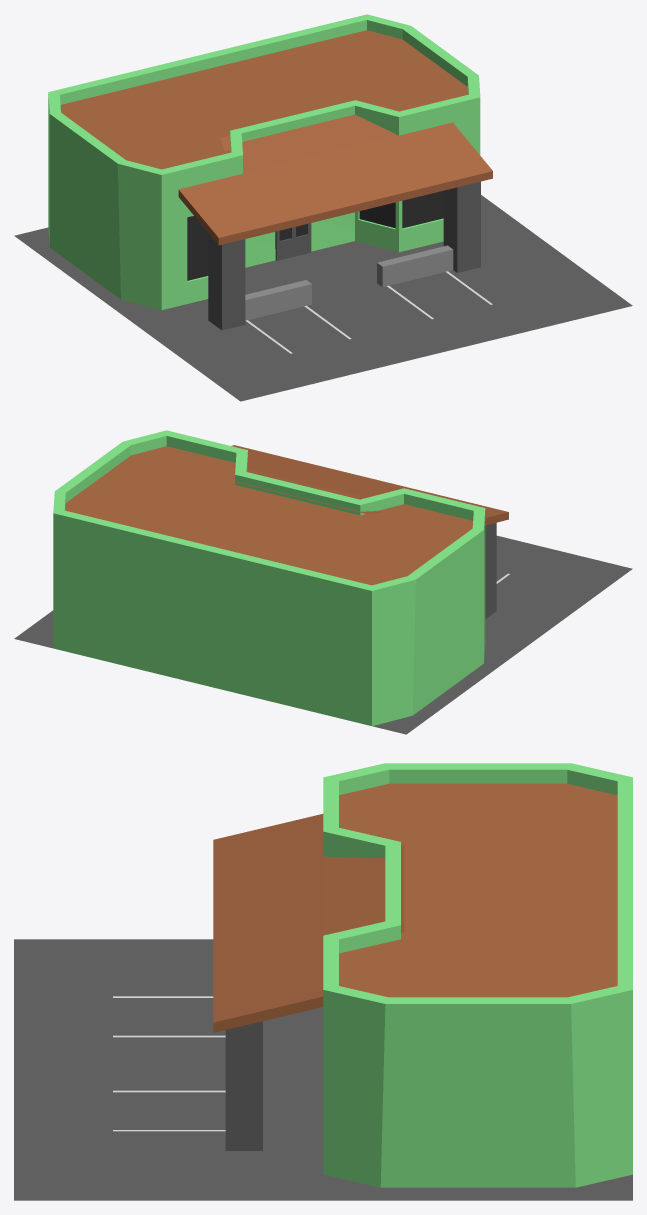
File: shop_02.fbx
3 views of the same model, one above another, from view 1: azimuth 30°, elevation 25°; view 2: azimuth 150°, elevation 25°; view 3: azimuth 270°, elevation 25° (orthographic). The views are drawn at different scales.
Parts seen in each view (by area): view 1: shop_02; view 2: shop_02; view 3: shop_02.
Part boxes in pixels (x1,y1,x2,y2): shop_02: (14,14,632,401); shop_02: (14,430,632,734); shop_02: (14,763,632,1200).
Bounding box in the file's own units: 20 × 6.59 × 20.
